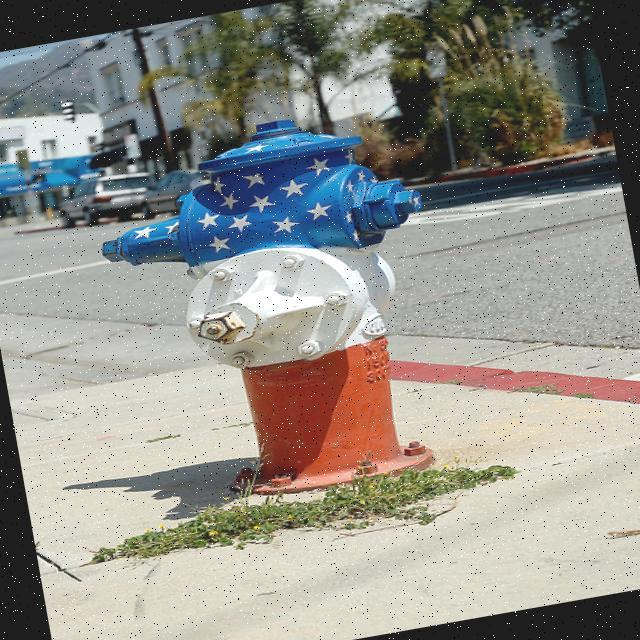fire_hydrant: (76, 89, 467, 520)
